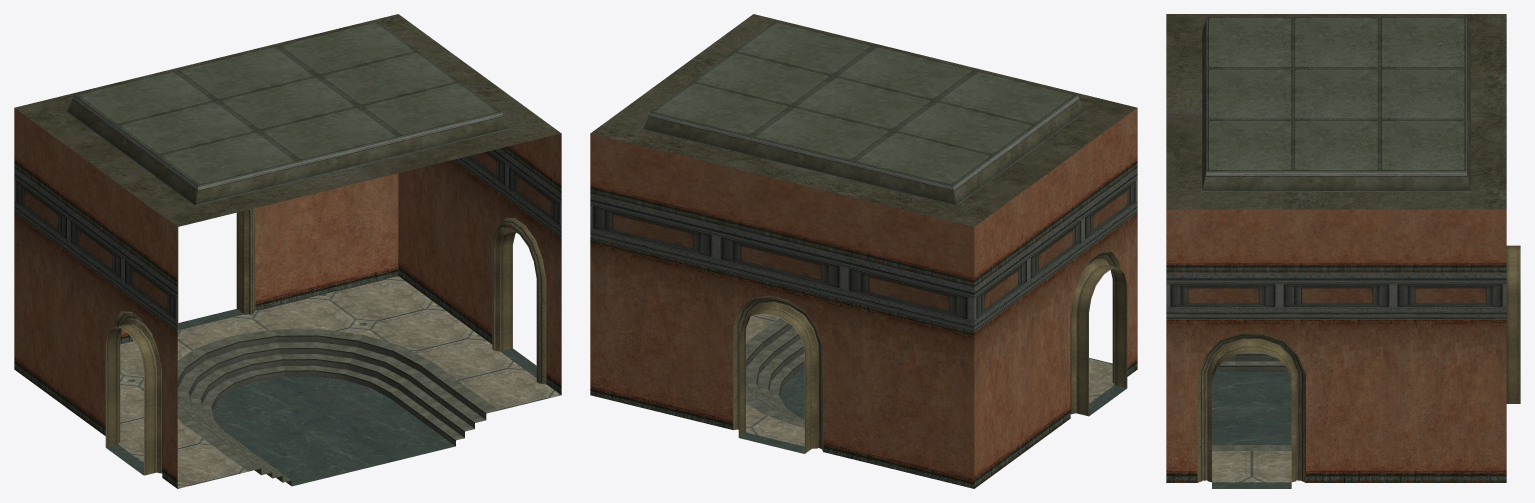
File: mun_nboo_hotel_s01_r7_mesh_lobby3.fbx
3 renders of one model, left to right at view 1: azimuth 30°, elevation 25°; view 2: azimuth 150°, elevation 25°; view 3: azimuth 270°, elevation 25°, orthographic. The views are drawn at different scales.
Visible parts, largest first — view 1: mesh_node; view 2: mesh_node; view 3: mesh_node.
Part boxes in pixels (box(x1,y1,x2,y2)): mesh_node: box(14, 14, 561, 488); mesh_node: box(590, 14, 1137, 488); mesh_node: box(1166, 14, 1520, 488).
Bounding box in the file's own units: 10.09 × 7.2 × 7.29.
